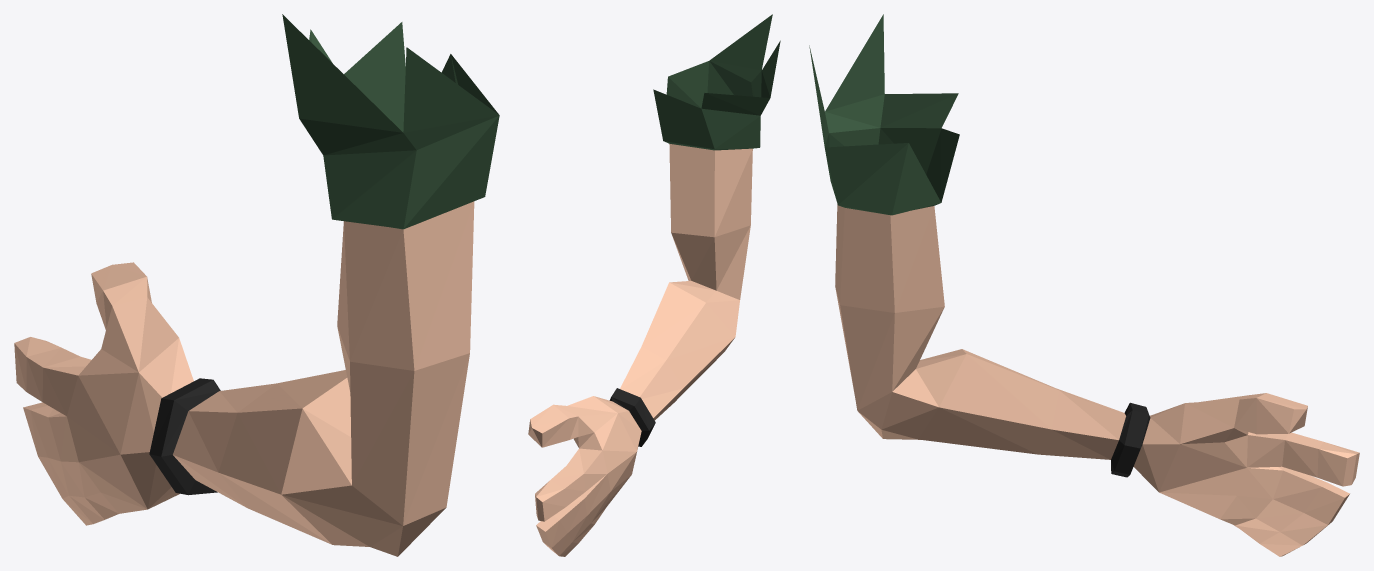
Rendered from ShopKeeper_01_ArmL_73.obj.
The picture shows the model from 3 angles, left to right: view 1: azimuth 30°, elevation 25°; view 2: azimuth 150°, elevation 25°; view 3: azimuth 270°, elevation 25°; orthographic projection. The views are drawn at different scales.
Parts seen in each view (by area): view 1: ShopKeeper_01_ArmL_73; view 2: ShopKeeper_01_ArmL_73; view 3: ShopKeeper_01_ArmL_73.
Boxes of the visible parts, bbox=[...] form: ShopKeeper_01_ArmL_73: bbox=[14, 14, 499, 556]; ShopKeeper_01_ArmL_73: bbox=[528, 14, 780, 556]; ShopKeeper_01_ArmL_73: bbox=[809, 14, 1359, 556].
Bounding box in the file's own units: 0.1602 × 0.5955 × 0.5836.
Materials: 1 (1 with a texture image).
